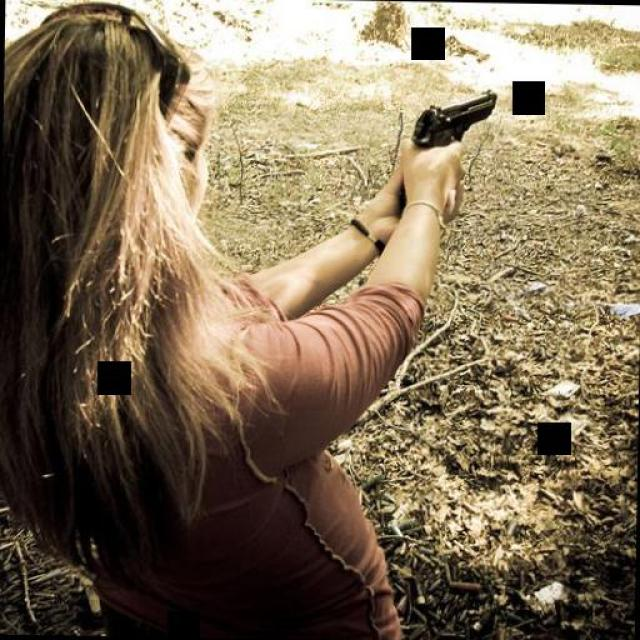gun: (409, 86, 495, 154)
